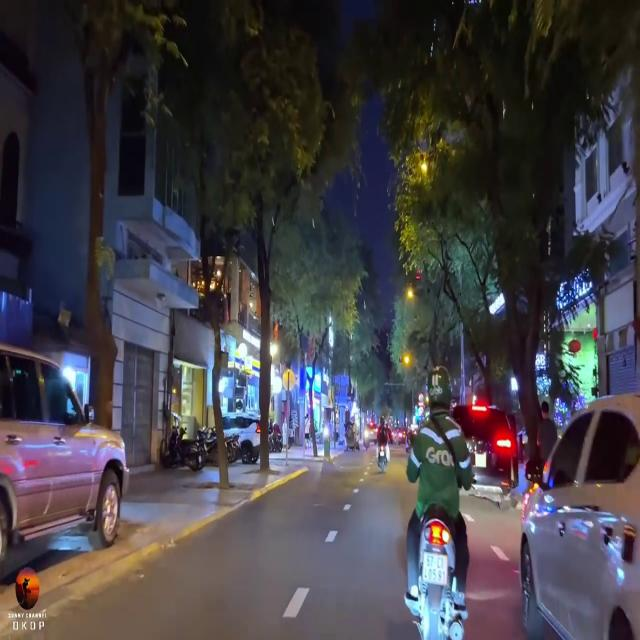bien_trang: (422, 544, 454, 591)
